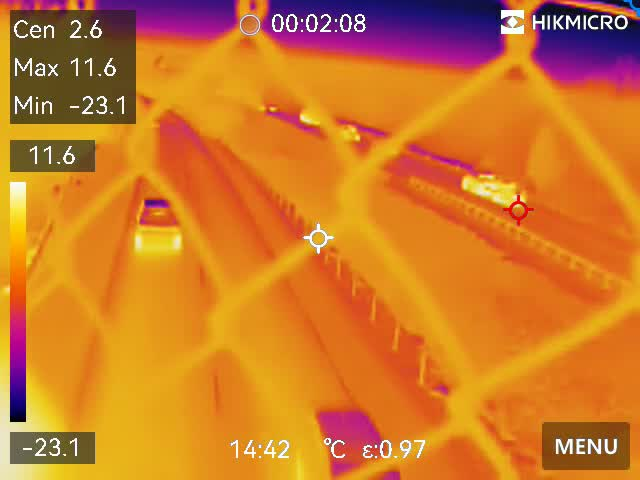vehicle: (129, 190, 183, 266), (458, 170, 532, 213)
